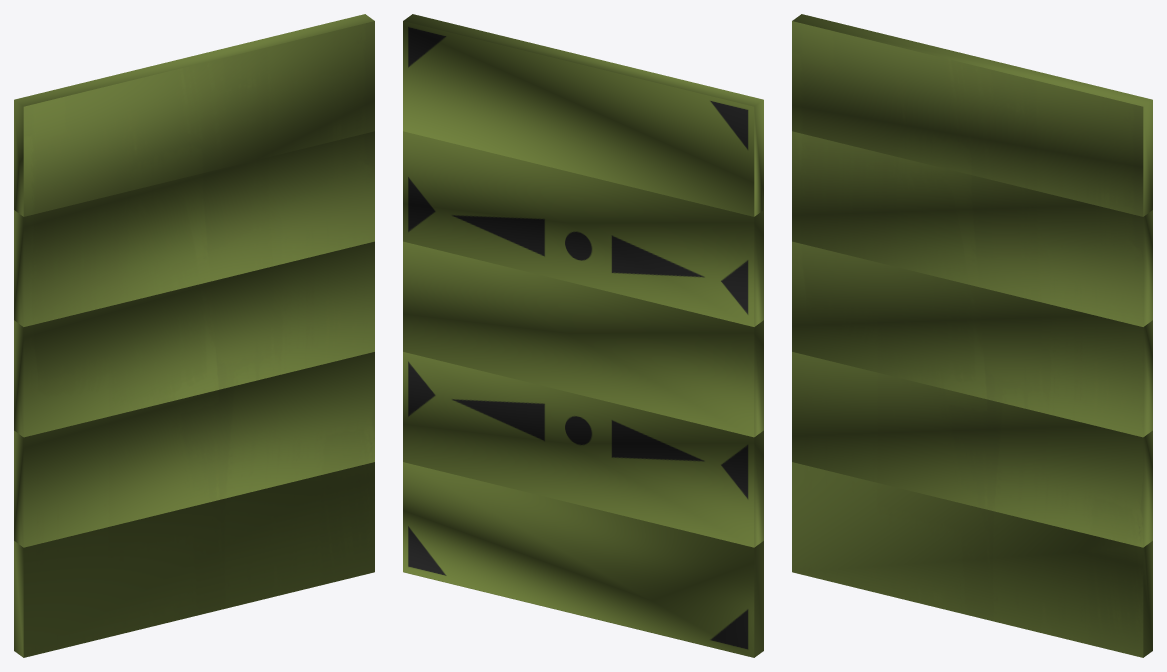
The model's file is CardForAnimation.fbx.
The picture shows the model from 3 angles, left to right: view 1: azimuth 30°, elevation 25°; view 2: azimuth 150°, elevation 25°; view 3: azimuth 330°, elevation 25°; orthographic projection.
Visible parts, largest first — view 1: Card.001, Card.003, Card.004, Card.005, Card.002; view 2: Card.001, Card.003, Card.004, Card.005, Card.002; view 3: Card.001, Card.003, Card.004, Card.005, Card.002.
Boxes of the visible parts, x1,y1,x2,y2 form: Card.001: [14, 14, 374, 216]; Card.003: [14, 241, 374, 437]; Card.004: [14, 352, 374, 547]; Card.005: [14, 462, 374, 657]; Card.002: [14, 131, 374, 326]; Card.001: [403, 14, 763, 216]; Card.003: [403, 241, 763, 437]; Card.004: [403, 352, 763, 547]; Card.005: [403, 462, 763, 657]; Card.002: [403, 131, 763, 326]; Card.001: [792, 14, 1152, 216]; Card.003: [792, 241, 1152, 437]; Card.004: [792, 352, 1152, 547]; Card.005: [792, 462, 1152, 657]; Card.002: [792, 131, 1152, 326].
Bounding box in the file's own units: 18.96 × 400 × 600.
